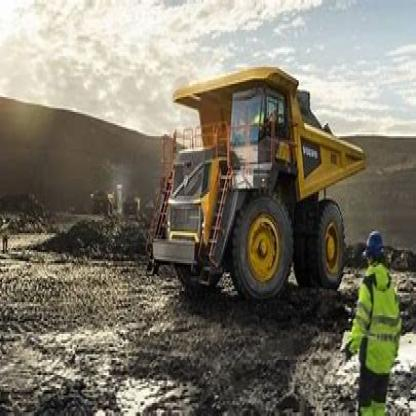dump_truck: (144, 60, 364, 296)
